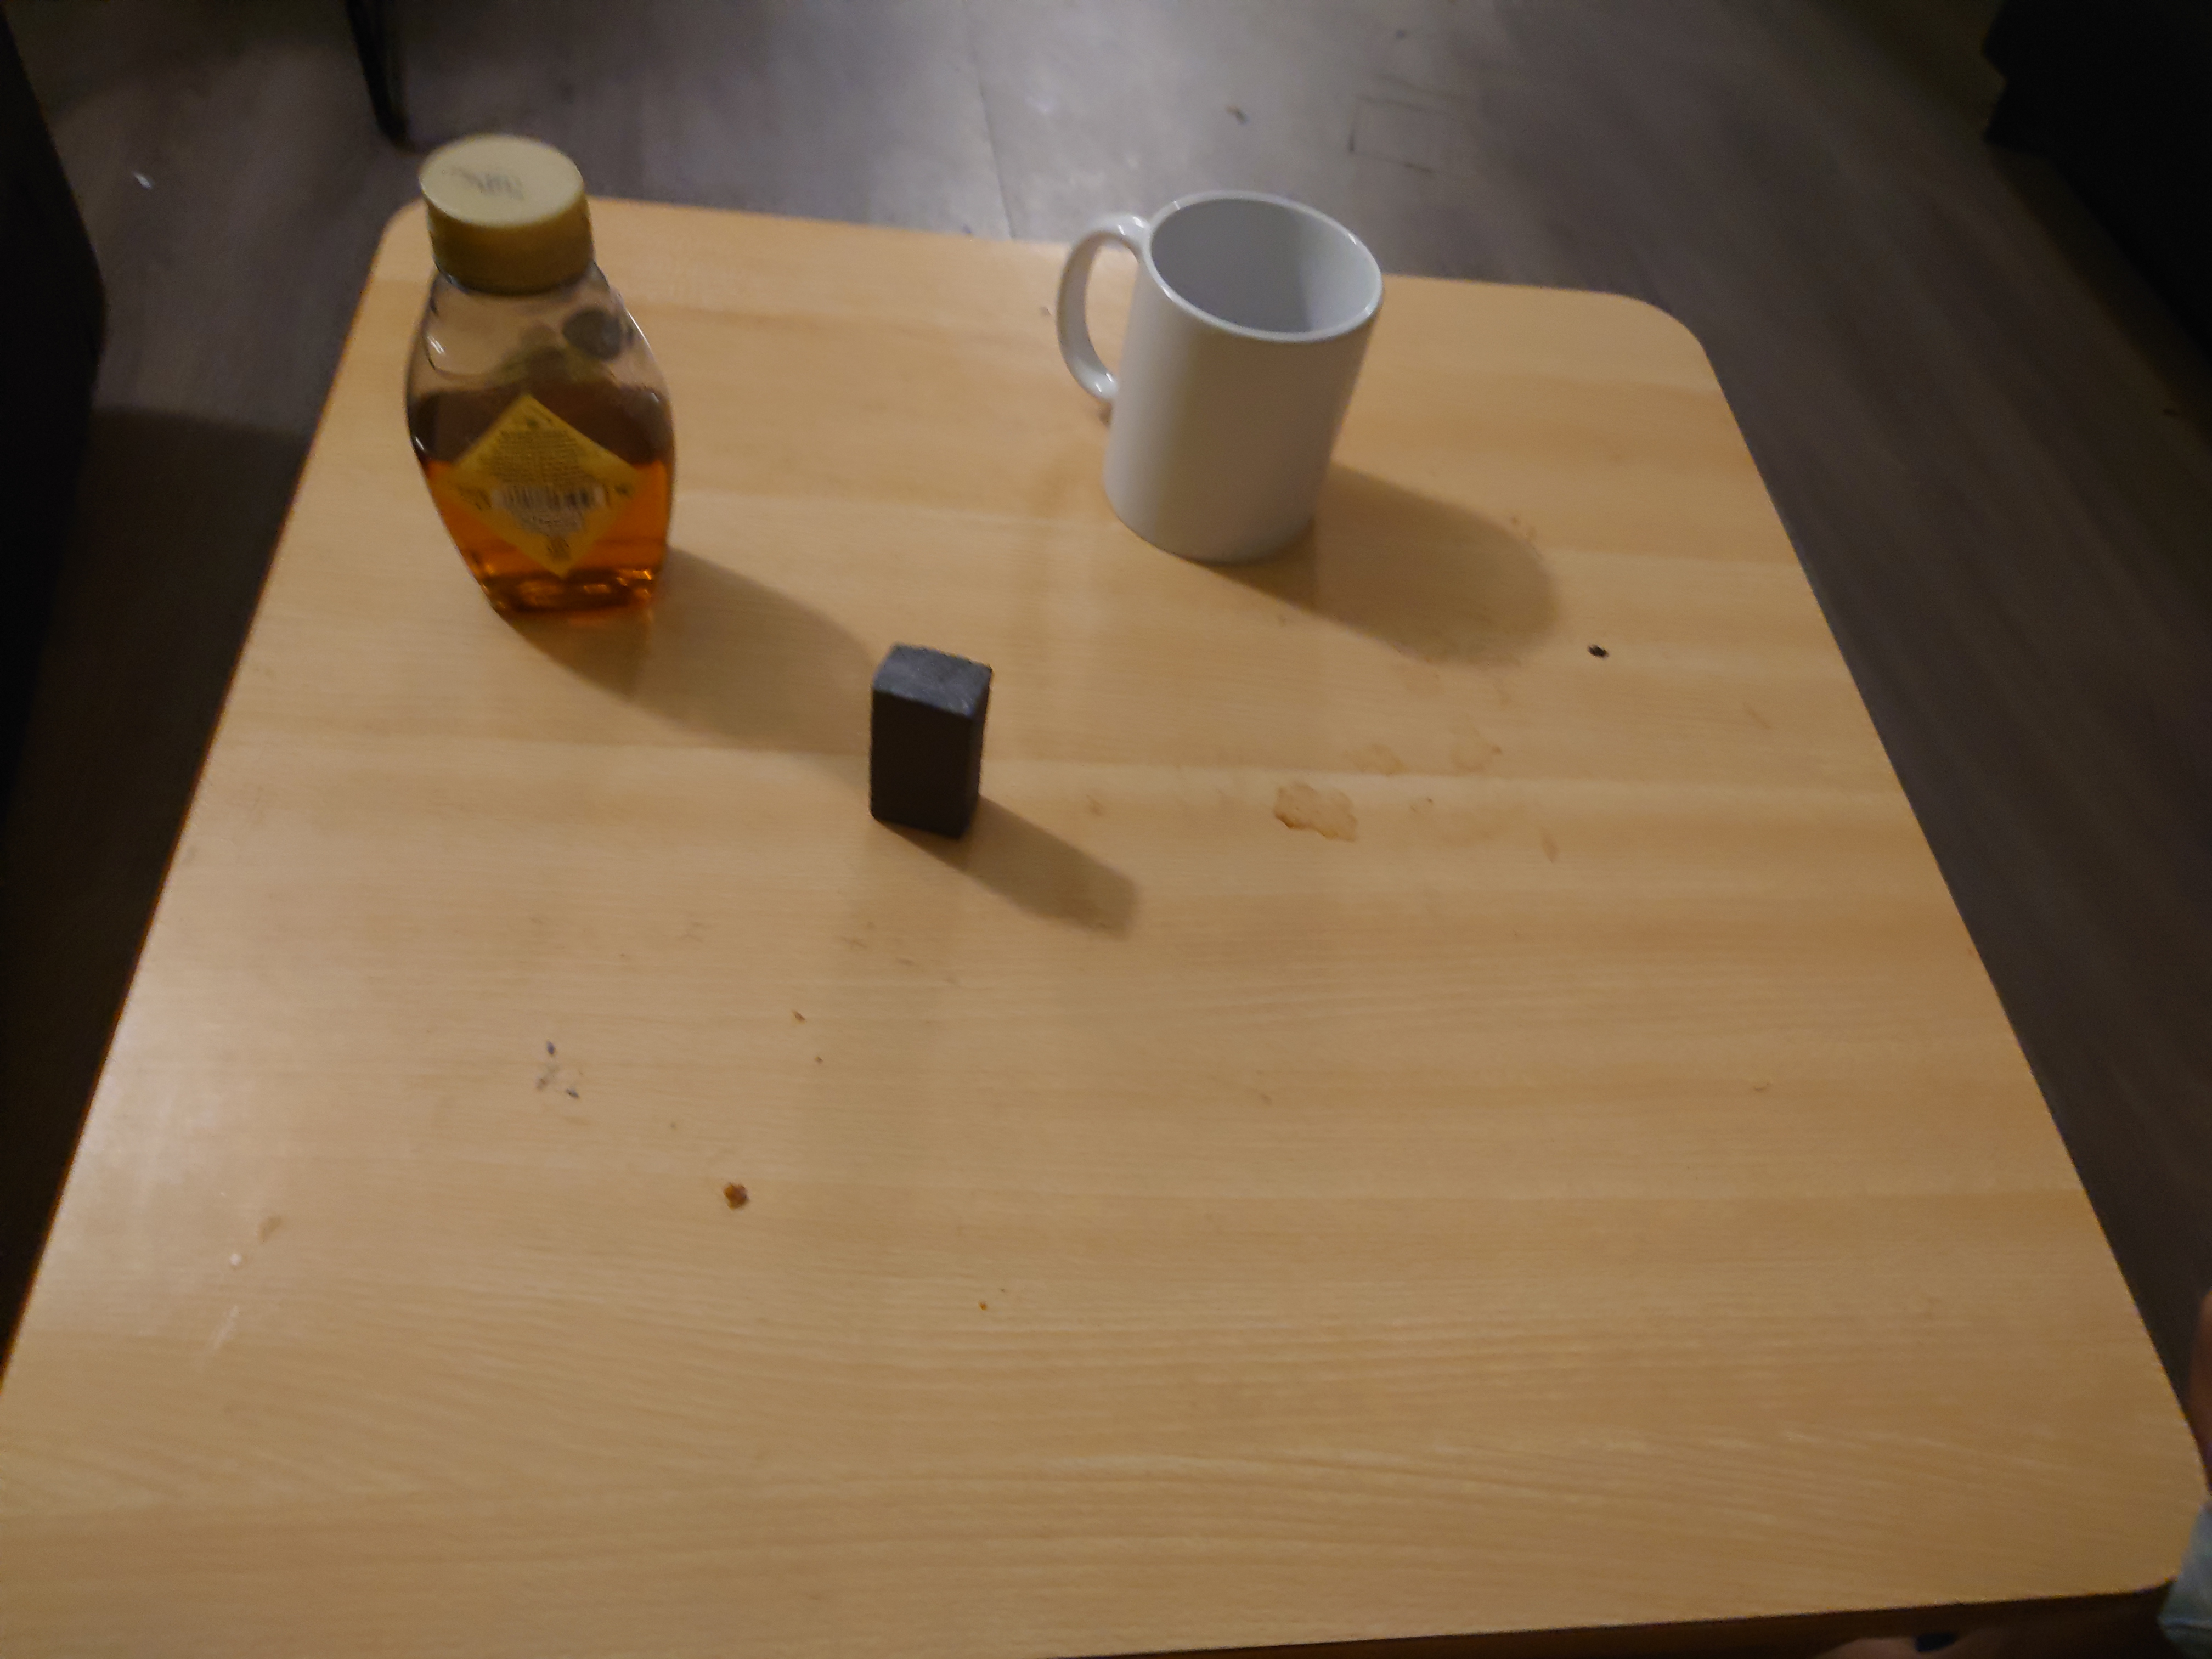cup: (1052, 184, 1380, 568)
target: (862, 636, 991, 842)
